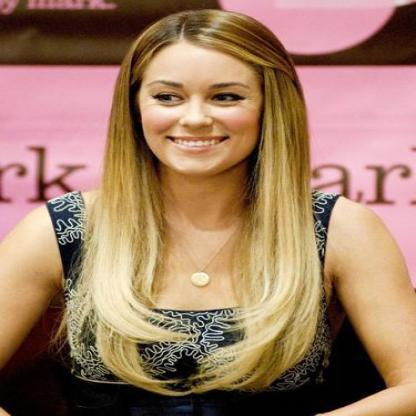long-hair: (82, 172, 322, 232)
